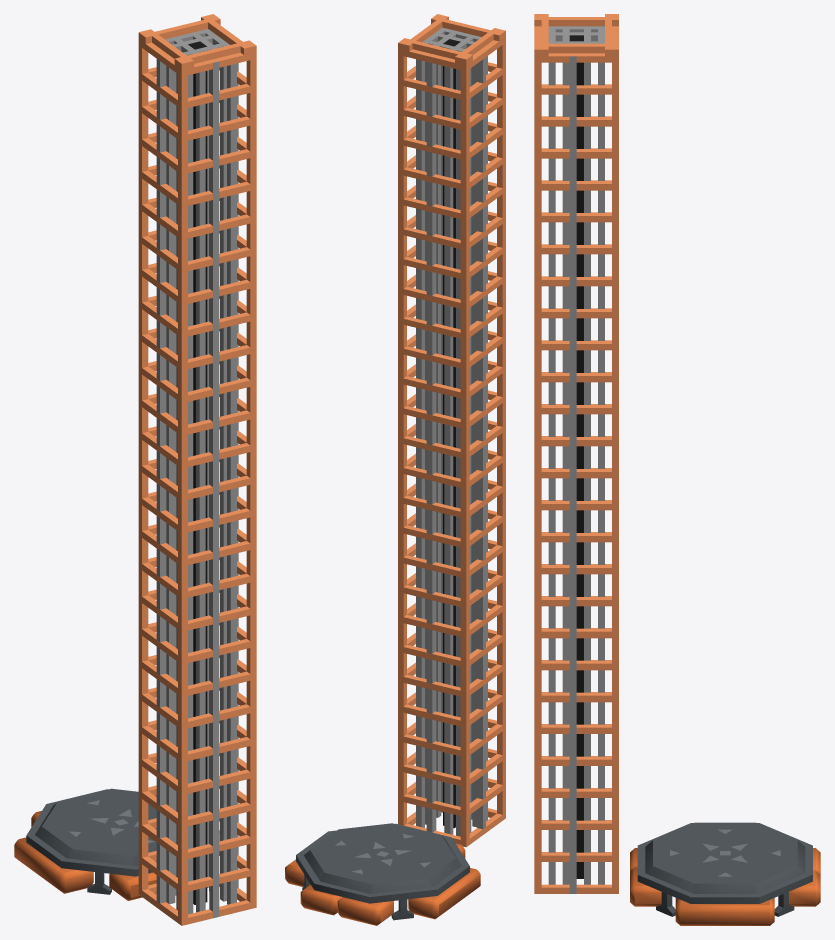
Rendered from landing.glb.
3 renders of one model, left to right at view 1: azimuth 30°, elevation 25°; view 2: azimuth 150°, elevation 25°; view 3: azimuth 270°, elevation 25°, orthographic. The views are drawn at different scales.
Parts seen in each view (by area): view 1: Landing Arm, Landing Pad; view 2: Landing Arm, Landing Pad; view 3: Landing Arm, Landing Pad.
Boxes of the visible parts, x1,y1,x2,y2 form: Landing Arm: (138, 14, 256, 925); Landing Pad: (14, 788, 219, 900); Landing Arm: (398, 14, 505, 847); Landing Pad: (285, 823, 480, 925); Landing Arm: (534, 14, 618, 893); Landing Pad: (630, 822, 820, 925).
Size of the model in its own units: 2.5 by 12.39 by 3.75.
4 materials, 1 textured.
